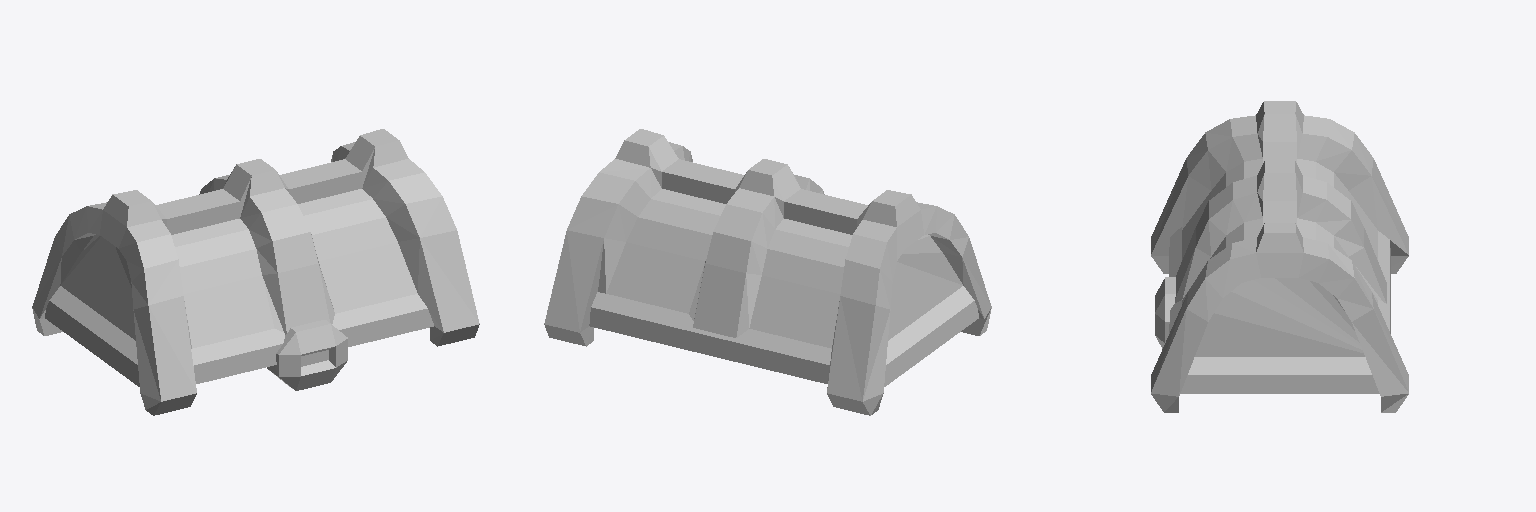
The model's file is chestTop_uncommon.obj.
3 views of the same model, side by side, from view 1: azimuth 30°, elevation 25°; view 2: azimuth 150°, elevation 25°; view 3: azimuth 270°, elevation 25° (orthographic).
Parts seen in each view (by area): view 1: chestTop_uncommon_Cube.2495; view 2: chestTop_uncommon_Cube.2495; view 3: chestTop_uncommon_Cube.2495.
Boxes of the visible parts, box(x1,y1,x2,y2) form: chestTop_uncommon_Cube.2495: box(32, 129, 479, 415); chestTop_uncommon_Cube.2495: box(544, 129, 991, 415); chestTop_uncommon_Cube.2495: box(1151, 101, 1408, 412).
Size of the model in its own units: 1.9 by 0.9723 by 1.28.